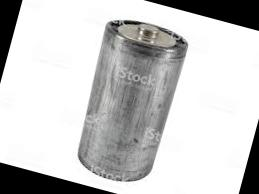battery: (55, 2, 207, 194)
